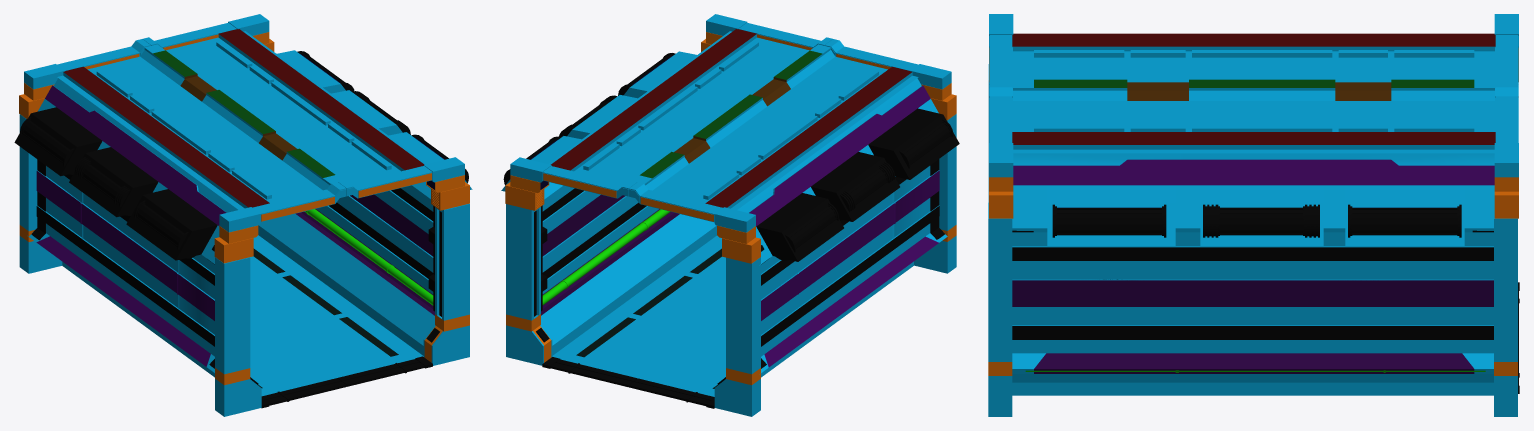
3 renders of one model, left to right at view 1: azimuth 30°, elevation 25°; view 2: azimuth 150°, elevation 25°; view 3: azimuth 270°, elevation 25°, orthographic. The views are drawn at different scales.
Visible parts, largest first — view 1: Cylinder003; view 2: Cylinder003; view 3: Cylinder003.
Boxes of the visible parts, <box> form: Cylinder003: <box>14,14,472,416</box>; Cylinder003: <box>501,14,959,416</box>; Cylinder003: <box>988,14,1519,416</box>.
Bounding box in the file's own units: 87.46 × 55.98 × 105.
